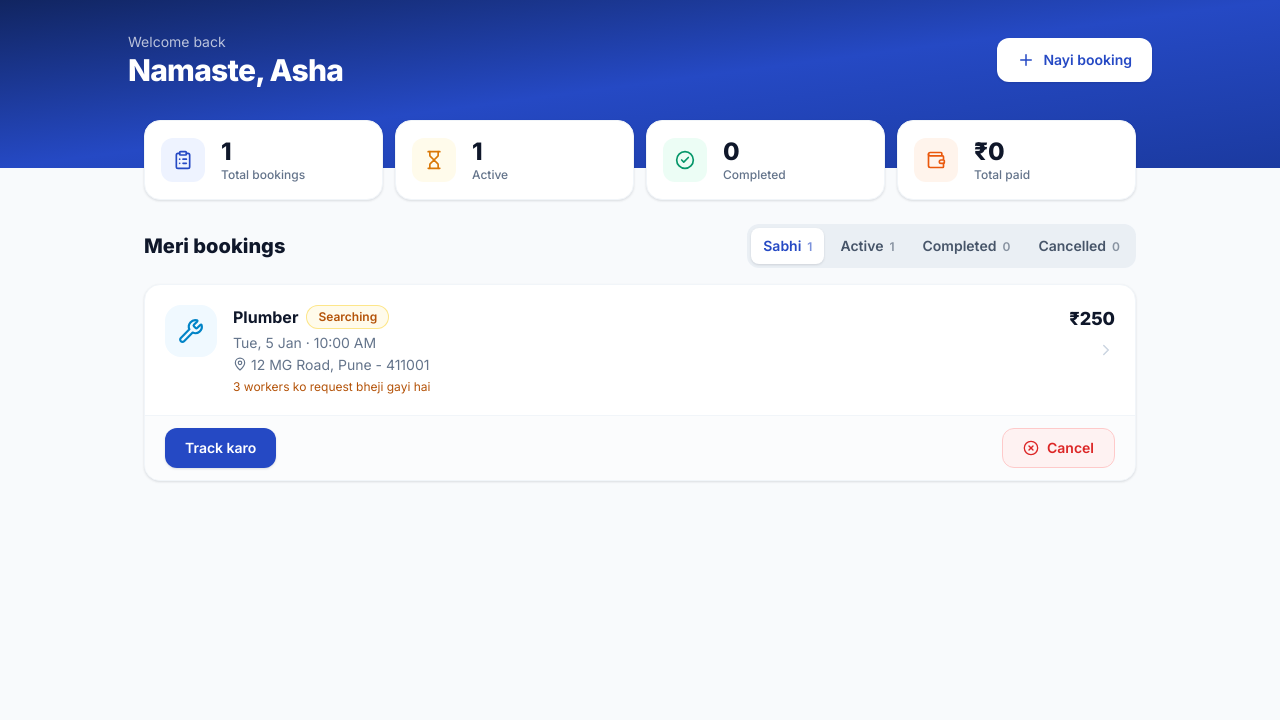
Test: a booking the server refuses to cancel shows why
What coordinates should you click on to do the following:
click the button "Cancel"
I would click on:
 (1058, 448)
Its box is [1002,428,1115,468].
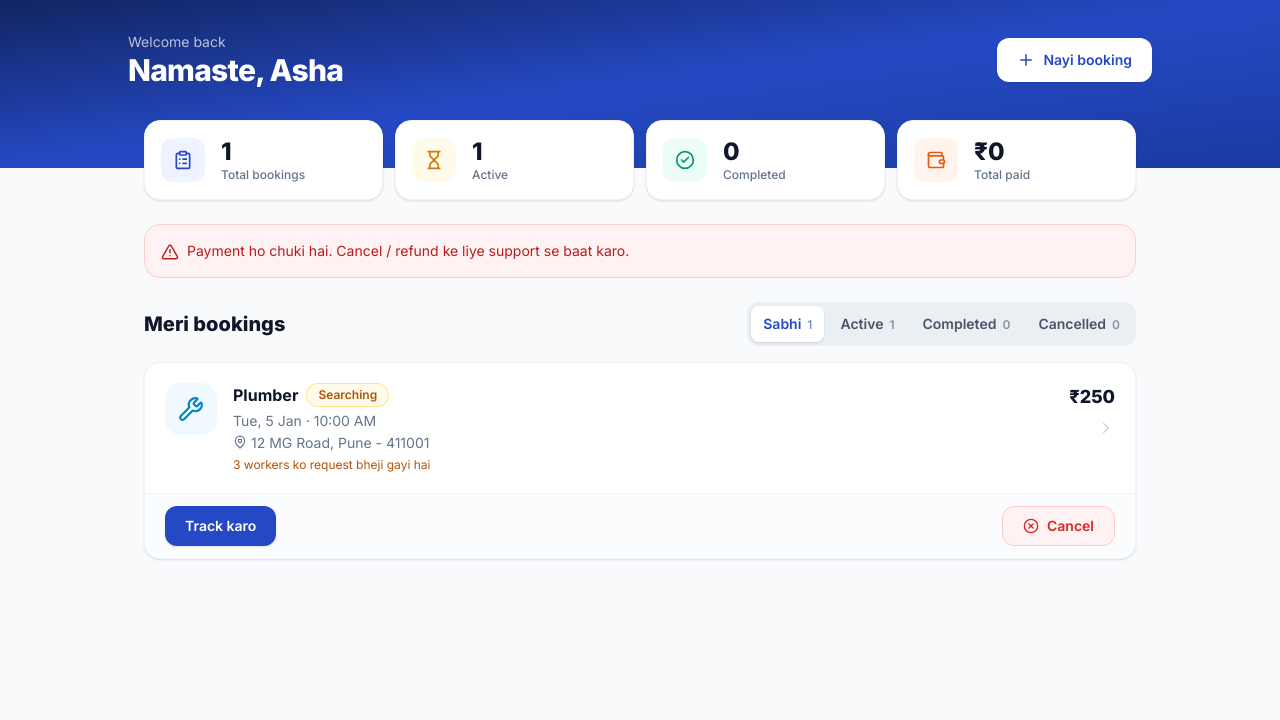
Result: the message shows "support se baat karo" at [187,242,629,259]
